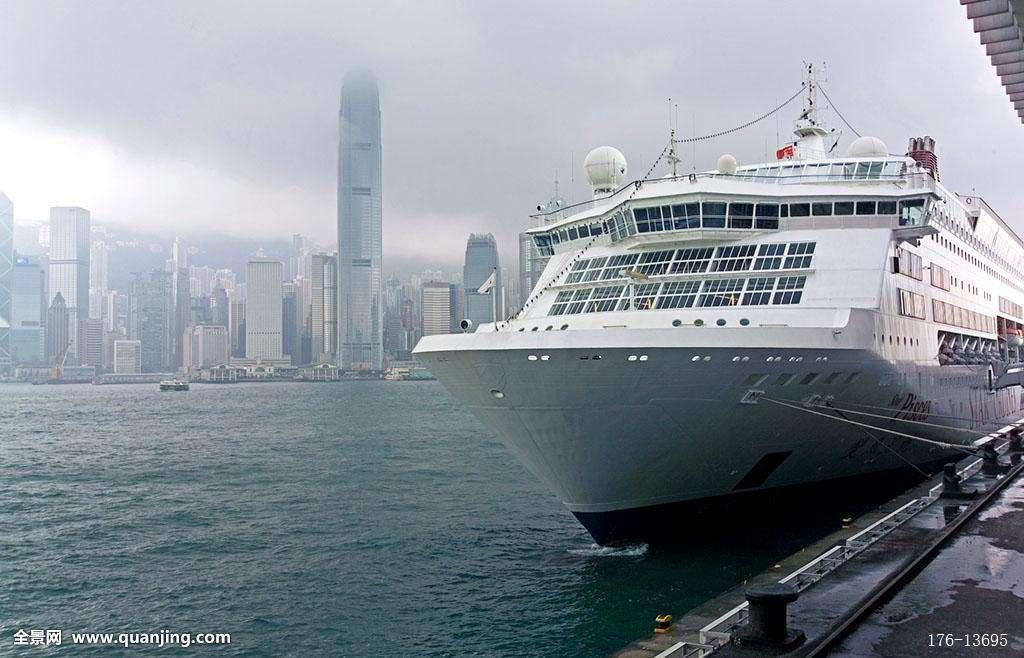otherboat: (154, 377, 194, 392)
youlun: (399, 68, 1024, 548)
